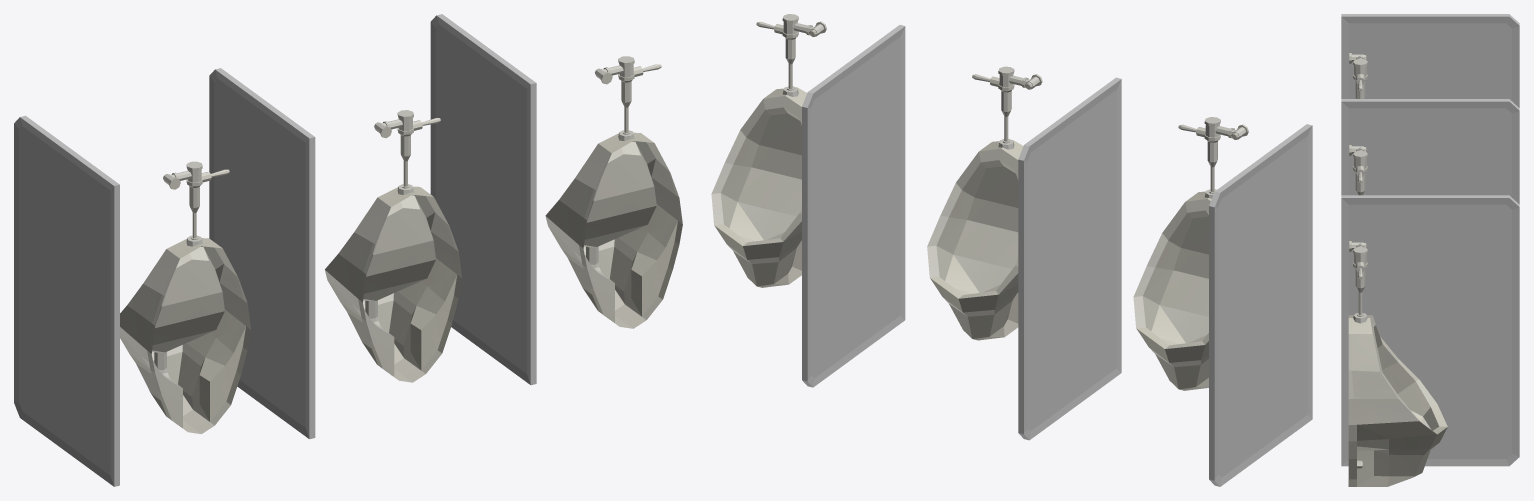
File: Urinals.fbx
3 views of the same model, side by side, from view 1: azimuth 30°, elevation 25°; view 2: azimuth 150°, elevation 25°; view 3: azimuth 270°, elevation 25° (orthographic). The views are drawn at different scales.
Visible parts, largest first — view 1: Urinal_wall_2, Urinal_wall, Urinal_wall_1, urinal_1, urinal, urinal_2; view 2: Urinal_wall, Urinal_wall_2, Urinal_wall_1, urinal_1, urinal, urinal_2; view 3: Urinal_wall, Urinal_wall_1, Urinal_wall_2, urinal, urinal_1, urinal_2.
Part boxes in pixels (bbox=[...]): Urinal_wall_2: bbox=[14, 115, 119, 486]; Urinal_wall: bbox=[430, 14, 536, 385]; Urinal_wall_1: bbox=[209, 68, 315, 439]; urinal_1: bbox=[325, 110, 462, 382]; urinal: bbox=[545, 56, 682, 328]; urinal_2: bbox=[120, 161, 250, 434]; Urinal_wall: bbox=[802, 25, 905, 387]; Urinal_wall_2: bbox=[1209, 124, 1312, 486]; Urinal_wall_1: bbox=[1018, 77, 1121, 440]; urinal_1: bbox=[927, 66, 1042, 340]; urinal: bbox=[711, 14, 826, 287]; urinal_2: bbox=[1133, 117, 1248, 390]; Urinal_wall: bbox=[1341, 195, 1519, 466]; Urinal_wall_1: bbox=[1341, 99, 1519, 204]; Urinal_wall_2: bbox=[1341, 14, 1519, 107]; urinal: bbox=[1348, 241, 1447, 486]; urinal_1: bbox=[1349, 145, 1367, 195]; urinal_2: bbox=[1349, 53, 1367, 98].
Size of the model in its own units: 263 by 132 by 79.58.
